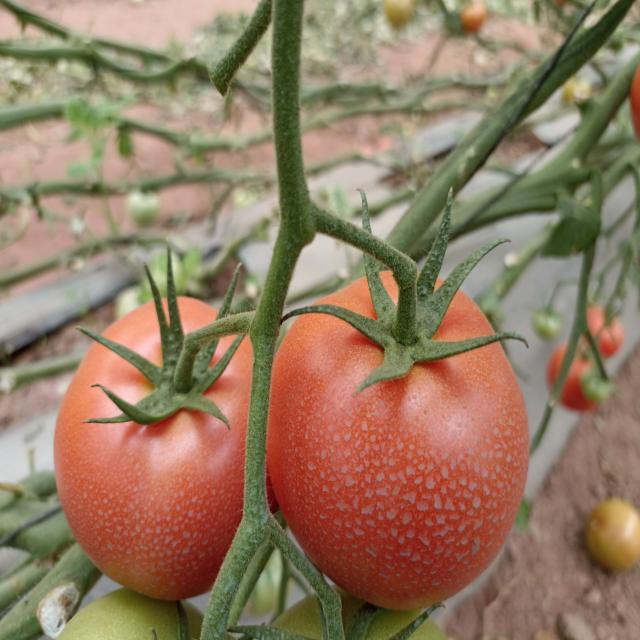Ripe Tomato: (269, 270, 531, 610), (53, 298, 293, 595)
